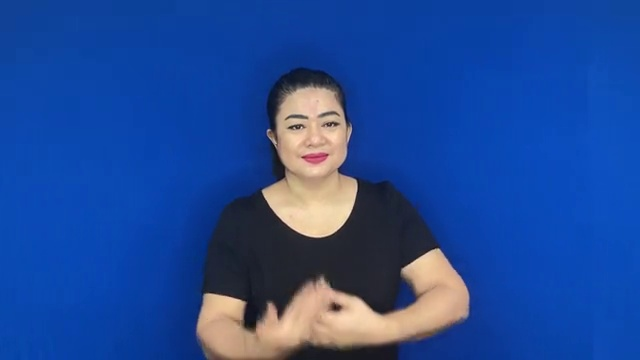bread: (258, 268, 378, 358)
